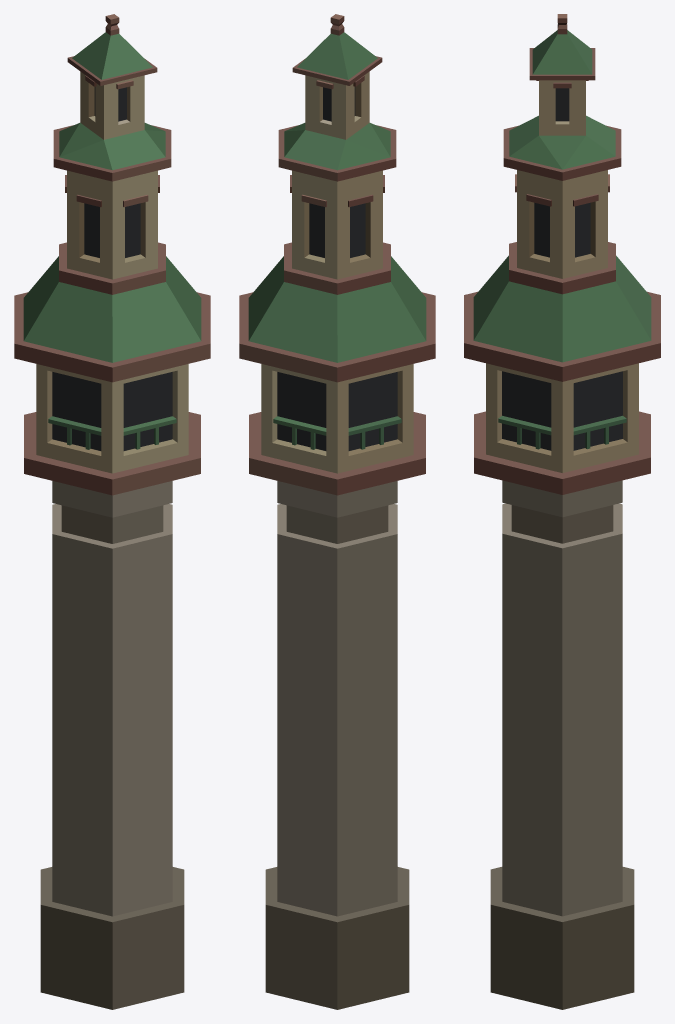
The model's file is SF_Bld_Elven_Tower_01.fbx.
The picture shows the model from 3 angles, left to right: view 1: azimuth 30°, elevation 25°; view 2: azimuth 150°, elevation 25°; view 3: azimuth 270°, elevation 25°; orthographic projection.
Visible parts, largest first — view 1: SF_Bld_Elven_Tower_01; view 2: SF_Bld_Elven_Tower_01; view 3: SF_Bld_Elven_Tower_01.
Part boxes in pixels (x1,y1,x2,y2): SF_Bld_Elven_Tower_01: (14,14,210,1009); SF_Bld_Elven_Tower_01: (239,14,435,1009); SF_Bld_Elven_Tower_01: (464,14,660,1009).
Bounding box in the file's own units: 10.52 × 48.96 × 9.11.
